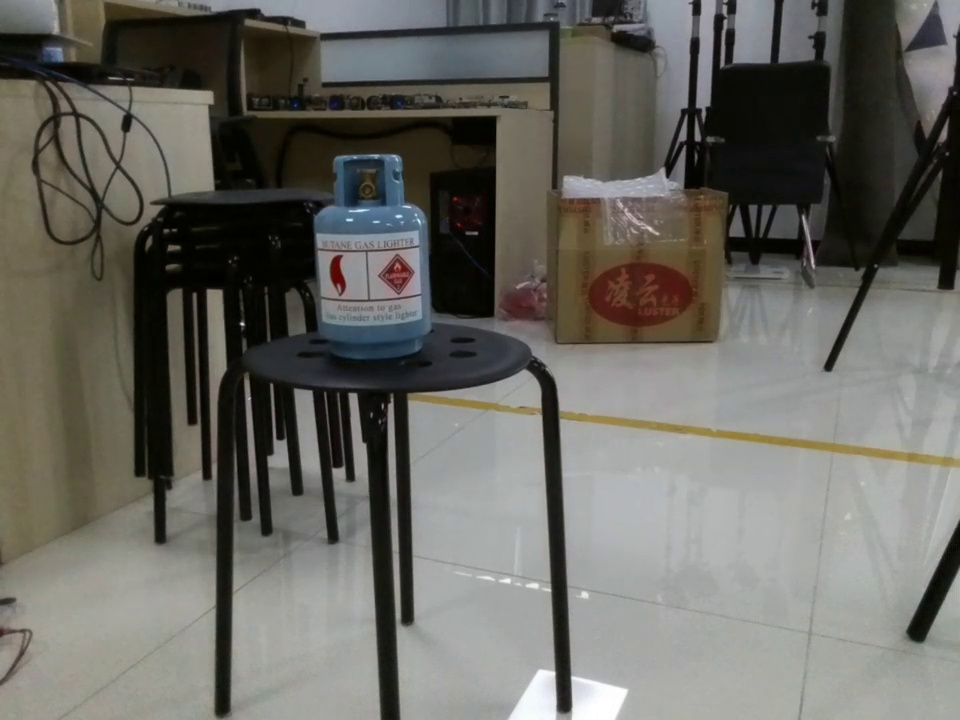gas tank: (309, 148, 441, 367)
